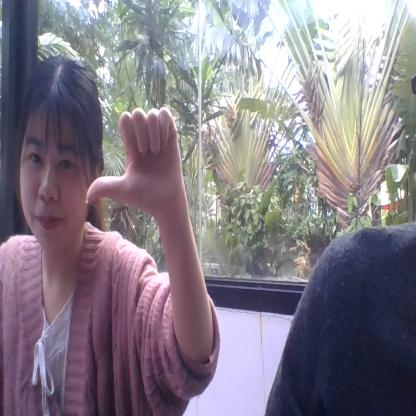right: (85, 104, 183, 209)
